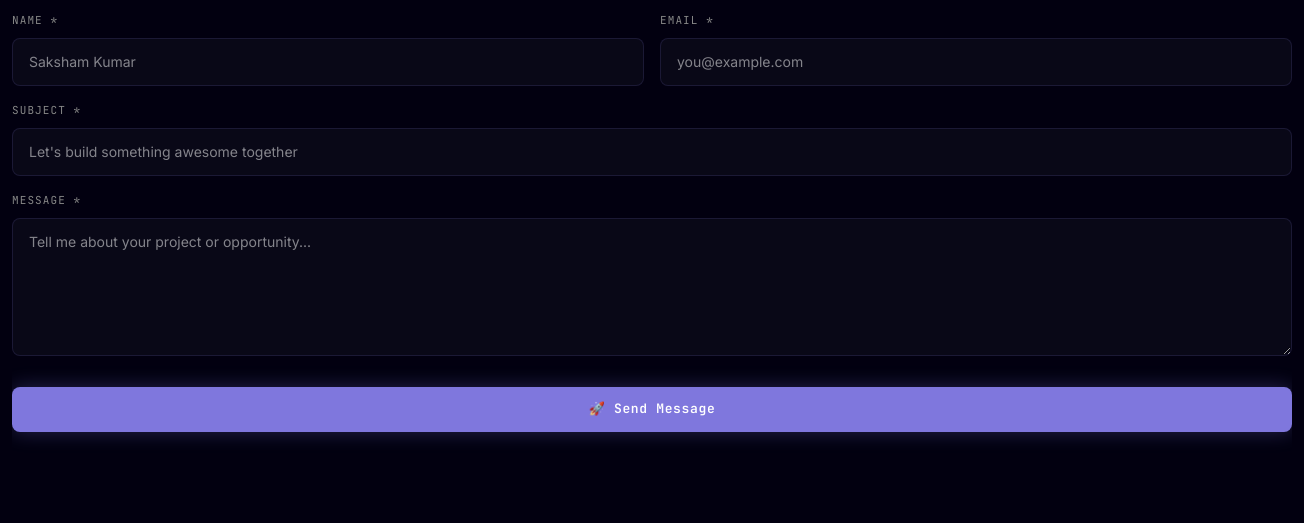
Test: ContactForm › should show validation errors for empty submission
This screenshot has width=1304, height=523.
Step 1. Click the button "🚀 Send Message" → (652,410), box [12, 387, 1292, 432]
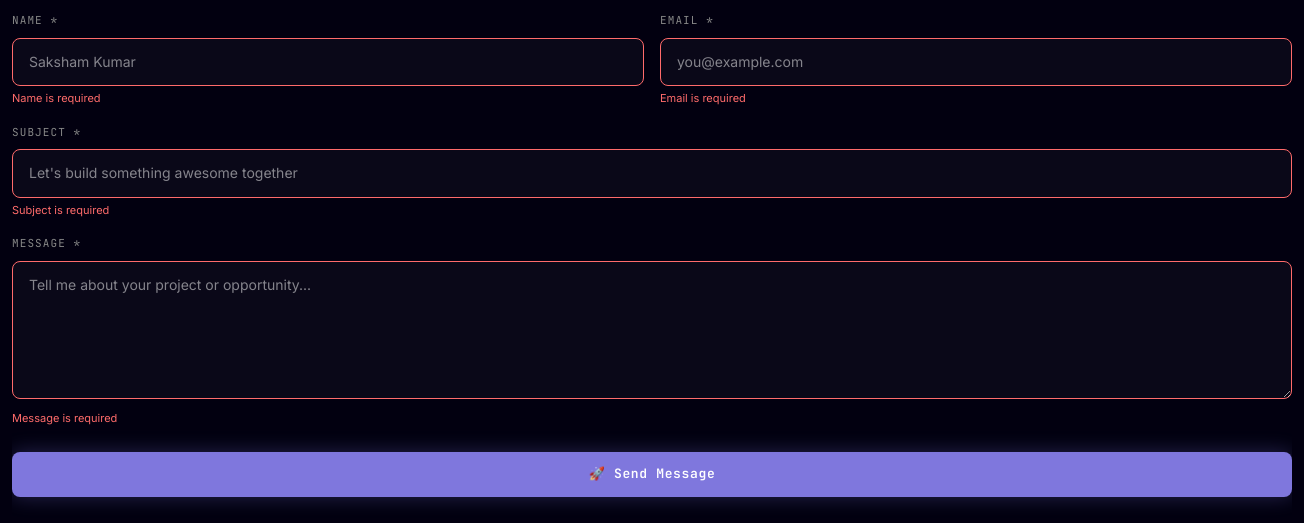
Expected: the text "Name is required" is shown, [12, 91, 101, 105]
Expected: the text "Email is required" is shown, [660, 91, 746, 105]
Expected: the text "Subject is required" is shown, [12, 203, 109, 217]
